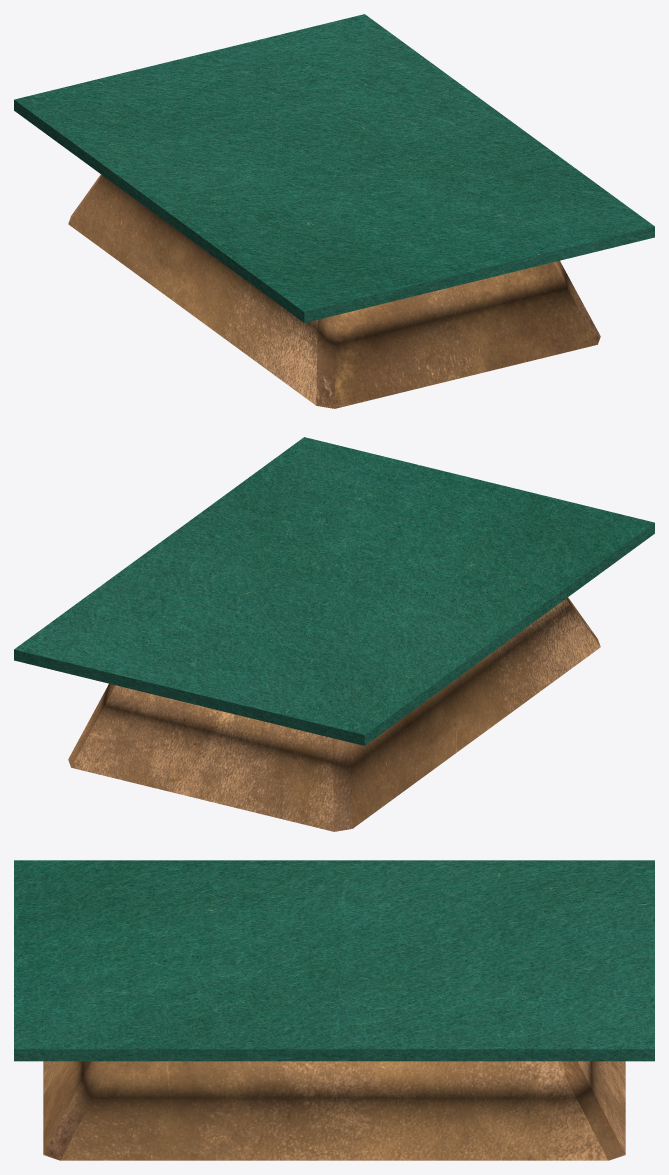
The model's file is Large Card Table.fbx.
3 renders of one model, top to bottom at view 1: azimuth 30°, elevation 25°; view 2: azimuth 150°, elevation 25°; view 3: azimuth 270°, elevation 25°, orthographic. The views are drawn at different scales.
Visible parts, largest first — view 1: Ftt_table_top, FTT_Base; view 2: Ftt_table_top, FTT_Base; view 3: Ftt_table_top, FTT_Base.
Boxes of the visible parts, x1,y1,x2,y2 form: Ftt_table_top: (14, 14, 654, 322); FTT_Base: (68, 174, 600, 408); Ftt_table_top: (14, 437, 654, 745); FTT_Base: (68, 597, 600, 831); Ftt_table_top: (14, 860, 654, 1061); FTT_Base: (43, 1061, 625, 1160).
Size of the model in its own units: 0.8719 by 0.2786 by 1.25.
2 materials, 2 textured.
